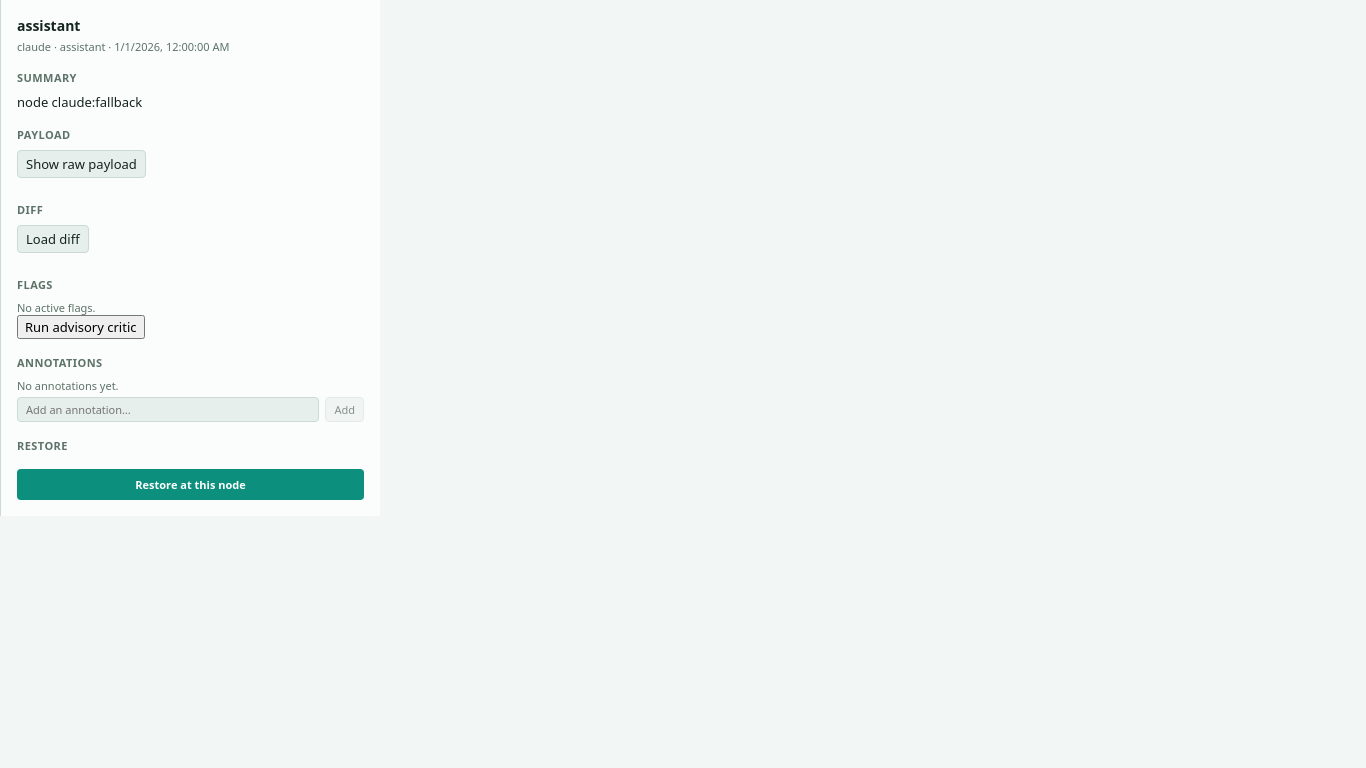
it: Inspector / restore modal copy is accurate for the ancestor-fallback case › 'Restore at this node' modal wording covers the no-own-snapshot case
The width and height of the screenshot is (1366, 768).
Click the button "Restore at this node": (190, 484) top-left (17, 469), bottom-right (364, 500)
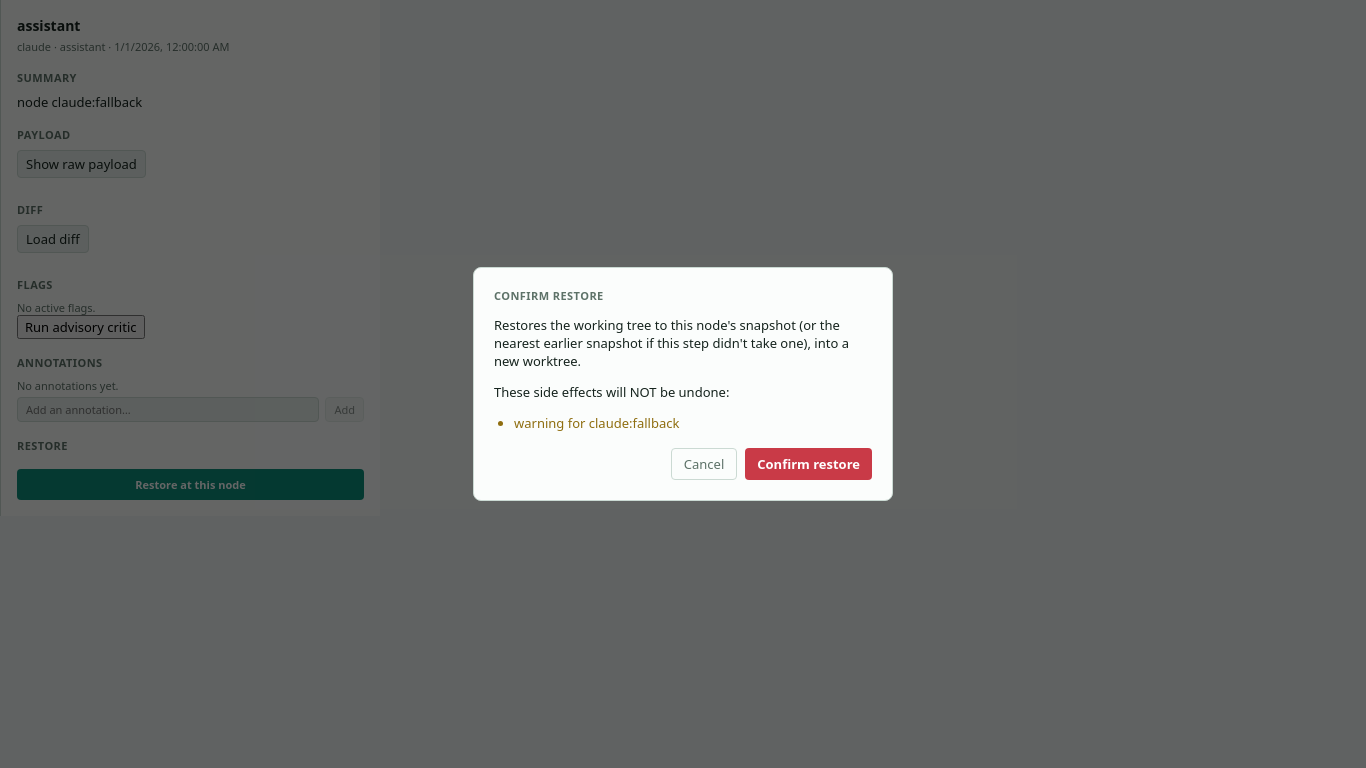
Result: the dialog is shown
Result: the text "nearest earlier snapshot" is shown at top-left (494, 316), bottom-right (849, 370)
